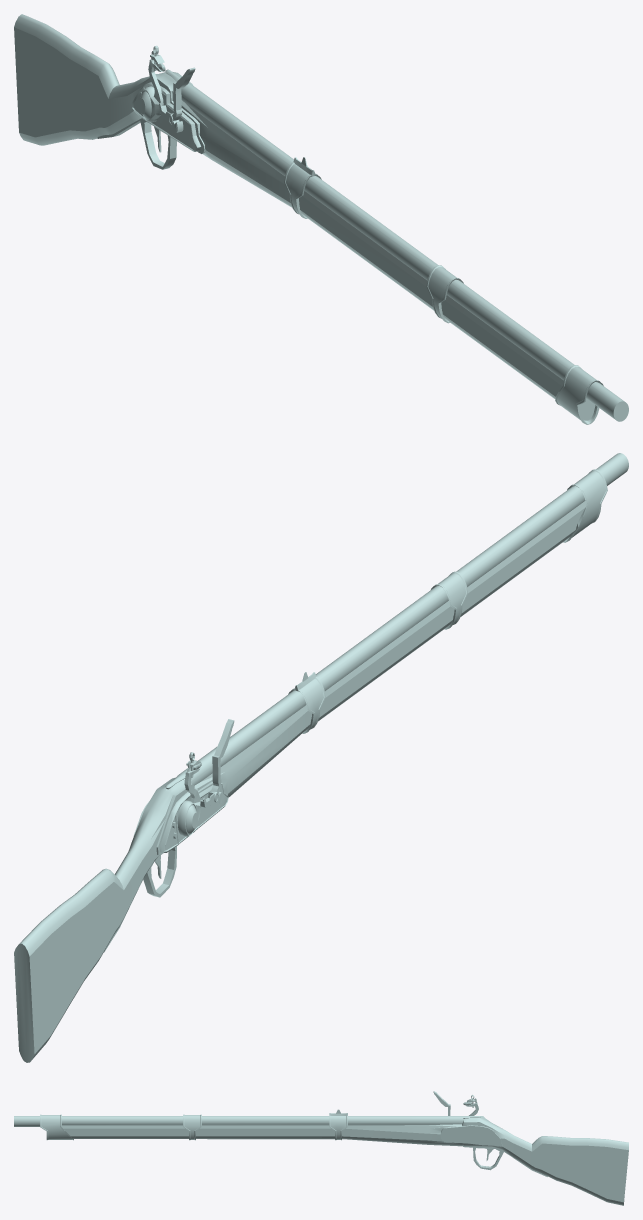
File: musketLong.obj
The picture shows the model from 3 angles, top to bottom: view 1: azimuth 30°, elevation 25°; view 2: azimuth 150°, elevation 25°; view 3: azimuth 270°, elevation 25°; orthographic projection. The views are drawn at different scales.
Parts seen in each view (by area): view 1: musketWithoutBayonet.002; view 2: musketWithoutBayonet.002; view 3: musketWithoutBayonet.002.
Part boxes in pixels (<box>): musketWithoutBayonet.002: <box>14,14,628,424</box>; musketWithoutBayonet.002: <box>14,453,628,1062</box>; musketWithoutBayonet.002: <box>14,1091,628,1205</box>.
Size of the model in its own units: 0.1021 by 0.5256 by 2.69.
1 material, 1 textured.
